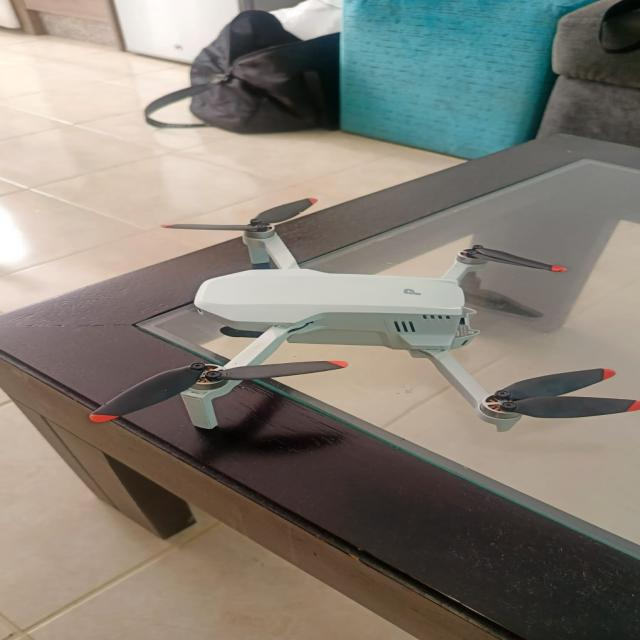dron: (92, 179, 634, 468)
